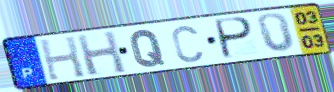0: (257, 12, 297, 55)
C: (170, 24, 205, 64)
H: (74, 29, 129, 77), (37, 34, 88, 82)
P: (214, 16, 256, 61)
Q: (129, 28, 168, 69)
